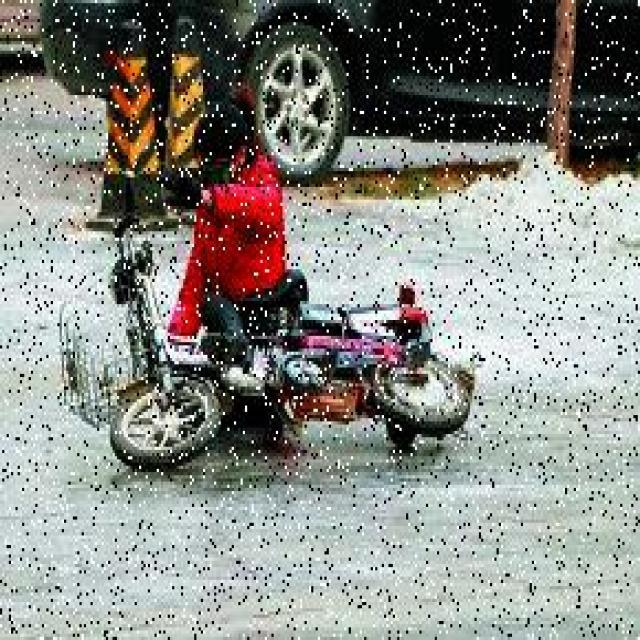fall: (165, 101, 294, 358)
